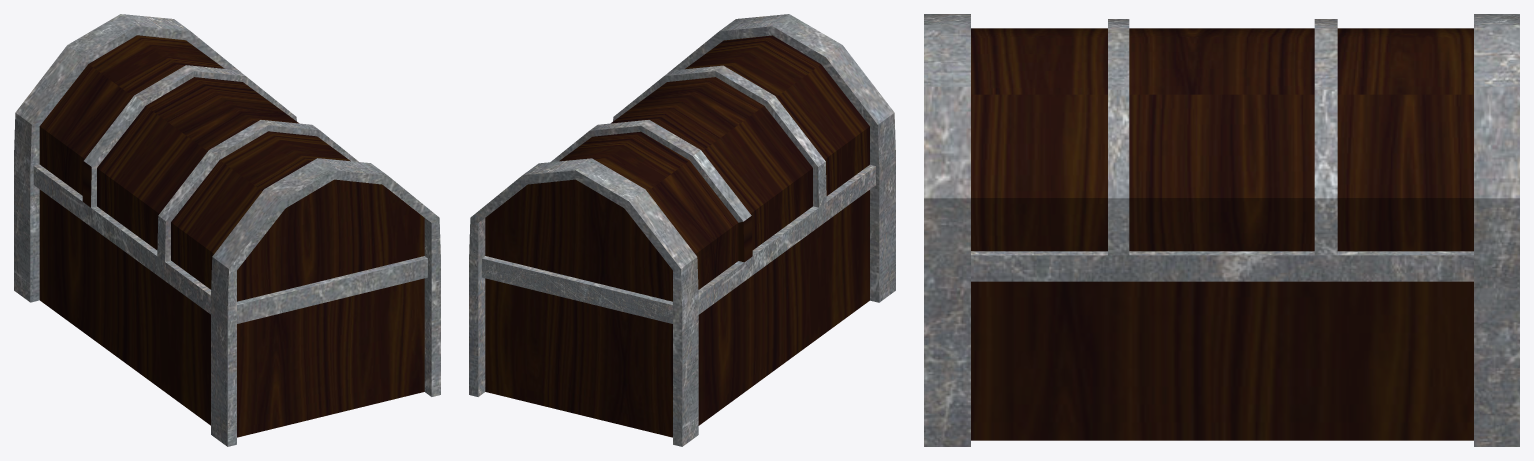
The model's file is Chest.obj.
3 views of the same model, side by side, from view 1: azimuth 30°, elevation 25°; view 2: azimuth 150°, elevation 25°; view 3: azimuth 270°, elevation 25° (orthographic). The views are drawn at different scales.
Visible parts, largest first — view 1: pCube1; view 2: pCube1; view 3: pCube1.
Part boxes in pixels (<box>): pCube1: <box>14,14,440,446</box>; pCube1: <box>469,14,895,446</box>; pCube1: <box>924,14,1519,446</box>.
Size of the model in its own units: 1.09 by 1.23 by 1.9.
Materials: 3 (2 with a texture image).
